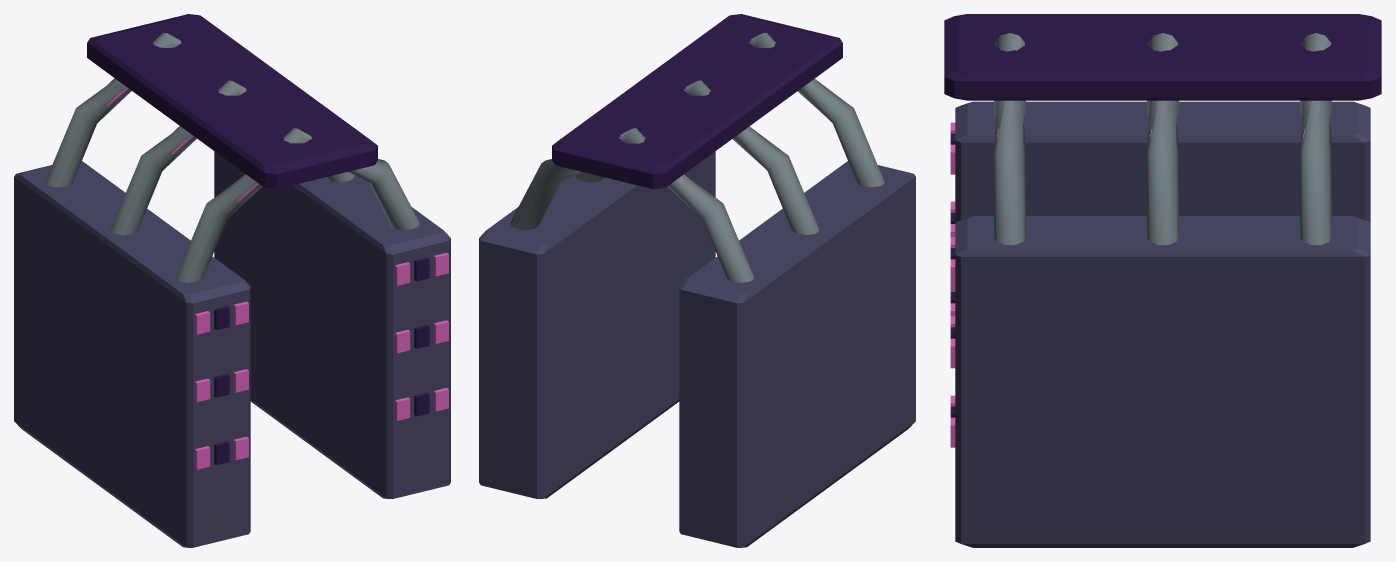
Rendered from vespera_arcade.glb.
The picture shows the model from 3 angles, left to right: view 1: azimuth 30°, elevation 25°; view 2: azimuth 150°, elevation 25°; view 3: azimuth 270°, elevation 25°; orthographic projection. The views are drawn at different scales.
Parts seen in each view (by area): view 1: vespera_arcade; view 2: vespera_arcade; view 3: vespera_arcade.
Boxes of the visible parts, box(x1,y1,x2,y2) form: vespera_arcade: box(14, 14, 450, 547); vespera_arcade: box(479, 14, 915, 547); vespera_arcade: box(944, 14, 1381, 547).
Bounding box in the file's own units: 16.4 × 22.23 × 20.
